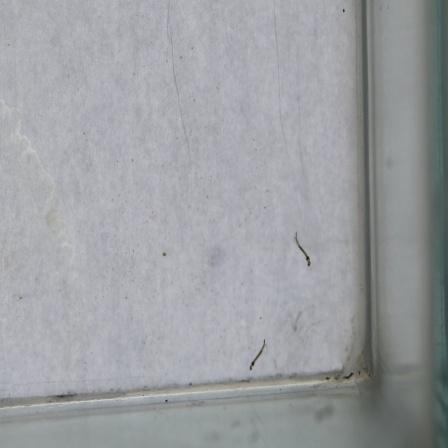Jentik-Nyamuk: (291, 227, 314, 269), (244, 337, 269, 373)
